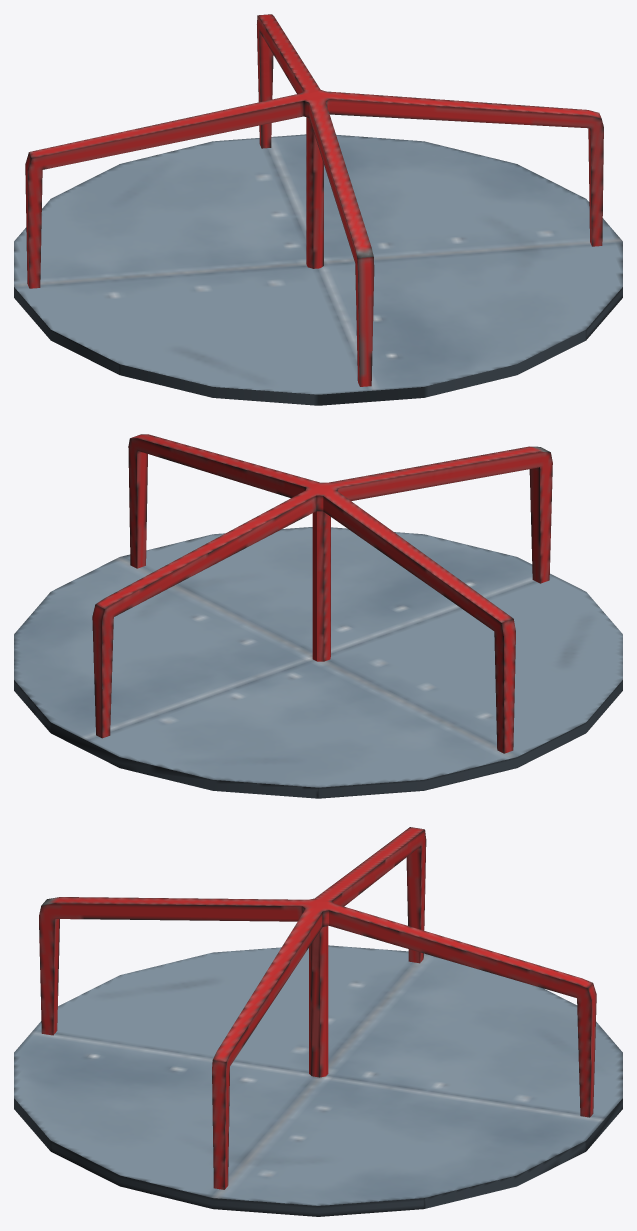
The model's file is karusel.FBX.
3 views of the same model, one above another, from view 1: azimuth 30°, elevation 25°; view 2: azimuth 150°, elevation 25°; view 3: azimuth 270°, elevation 25° (orthographic).
Visible parts, largest first — view 1: Plane010; view 2: Plane010; view 3: Plane010.
Part boxes in pixels (<box>): Plane010: <box>14,14,622,405</box>; Plane010: <box>14,434,622,798</box>; Plane010: <box>14,827,622,1216</box>.
Size of the model in its own units: 64.1 by 20.55 by 63.13.
